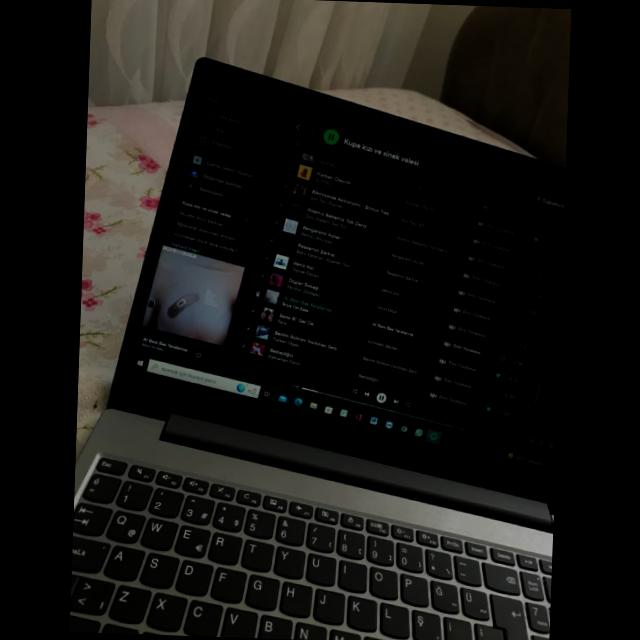laptop: (69, 44, 569, 640)
